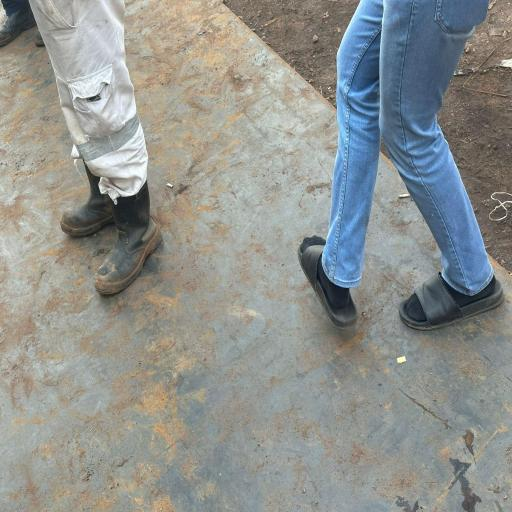not_safety_shoe: (399, 256, 502, 336), (300, 224, 352, 332)
safety_shoe: (89, 186, 161, 296), (45, 156, 131, 234)
